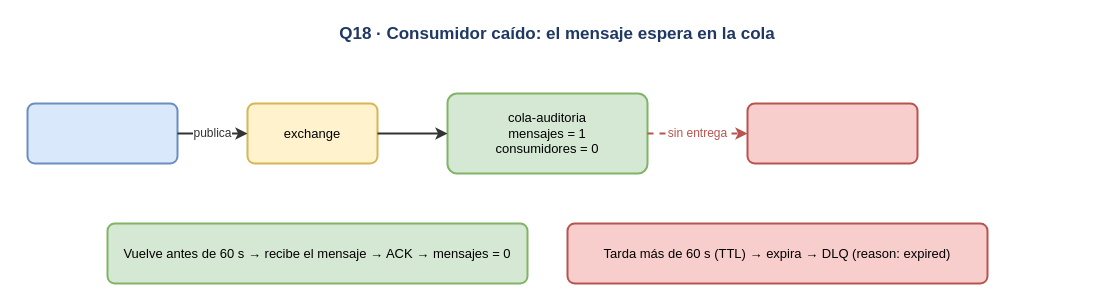
Some shapes in this 1114 by 301 pixel diagram are drawn without their labels. The shapes that lost their labels are listed below. From the top down, each one's centre as x and y in pixels, then its label:
the point at 102,133: Productor (catálogo)
the point at 832,133: Consumidor caído ✖
